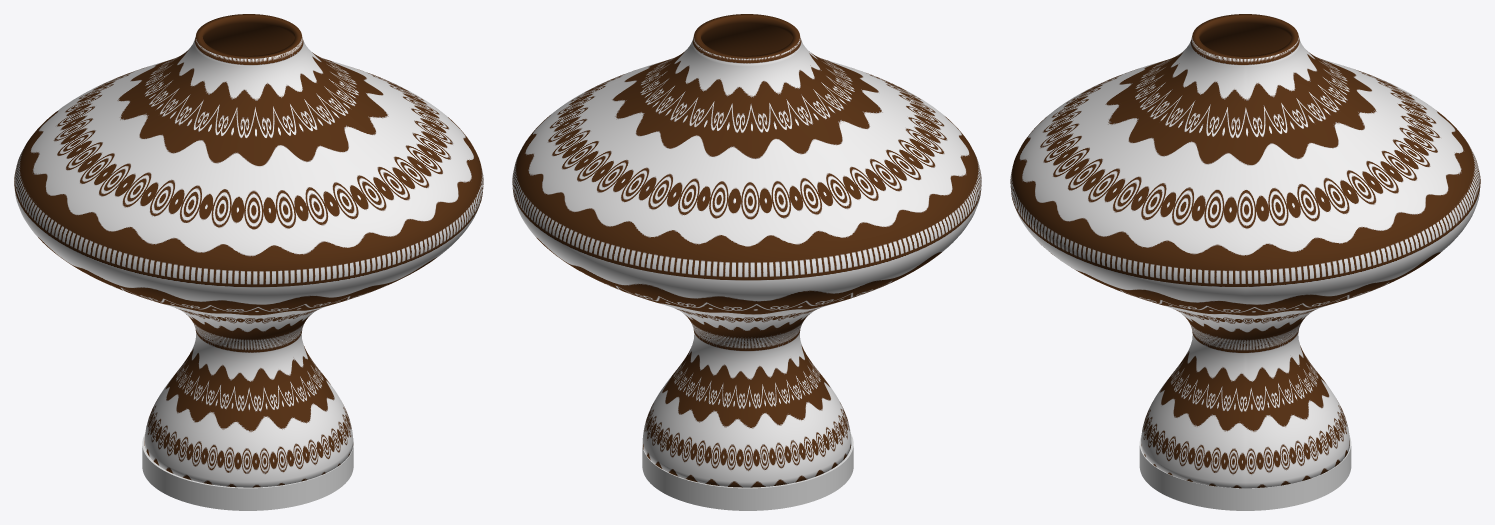
File: Vase1.fbx
The picture shows the model from 3 angles, left to right: view 1: azimuth 30°, elevation 25°; view 2: azimuth 150°, elevation 25°; view 3: azimuth 270°, elevation 25°; orthographic projection.
Visible parts, largest first — view 1: Object_1; view 2: Object_1; view 3: Object_1.
Boxes of the visible parts, box(x1,y1,x2,y2) form: Object_1: box(14, 14, 483, 510); Object_1: box(512, 14, 981, 510); Object_1: box(1010, 14, 1480, 510).
Size of the model in its own units: 64.69 by 65.32 by 64.69.
